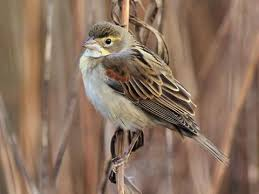hsparrow: (74, 21, 235, 166)
